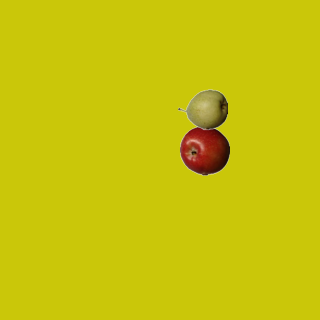Apple Braeburn: (179, 125, 229, 175)
Pear: (177, 84, 227, 134)
